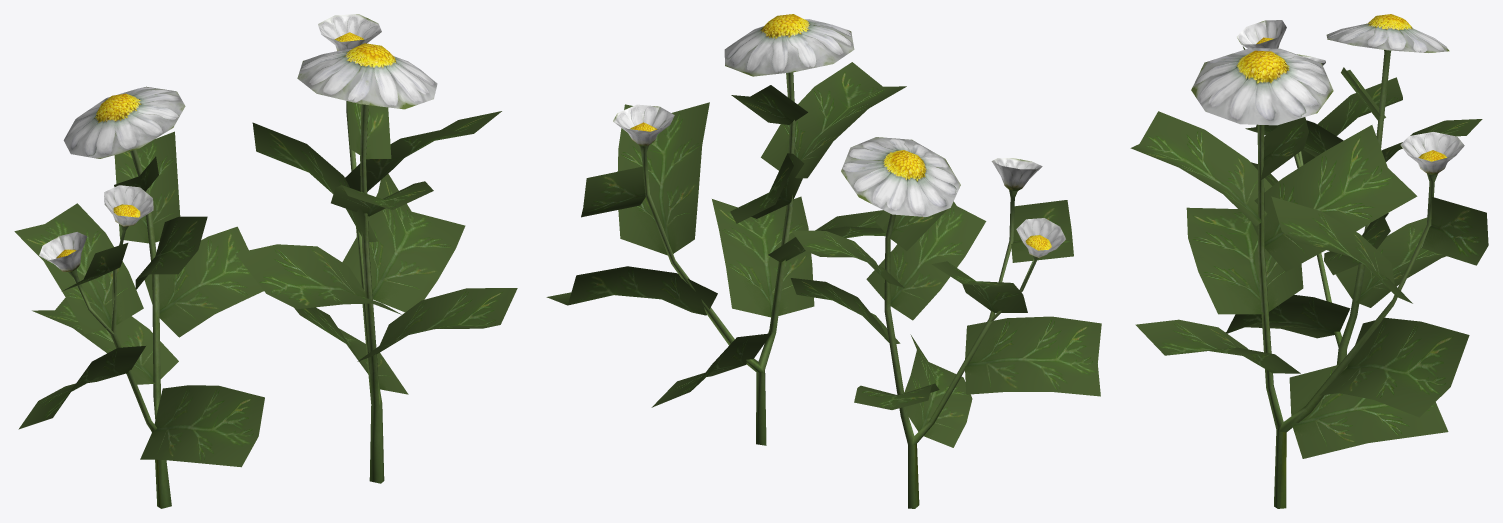
Rendered from Chamomile.FBX.
The picture shows the model from 3 angles, left to right: view 1: azimuth 30°, elevation 25°; view 2: azimuth 150°, elevation 25°; view 3: azimuth 270°, elevation 25°; orthographic projection. The views are drawn at different scales.
Visible parts, largest first — view 1: Chamomile2, Chamomile; view 2: Chamomile, Chamomile2; view 3: Chamomile, Chamomile2.
Boxes of the visible parts, bbox=[...] form: Chamomile2: bbox=[14, 86, 264, 508]; Chamomile: bbox=[235, 14, 517, 483]; Chamomile: bbox=[546, 14, 906, 445]; Chamomile2: bbox=[790, 137, 1101, 508]; Chamomile: bbox=[1130, 48, 1488, 508]; Chamomile2: bbox=[1225, 14, 1482, 364].
Bounding box in the file's own units: 102 × 84.26 × 61.48.
